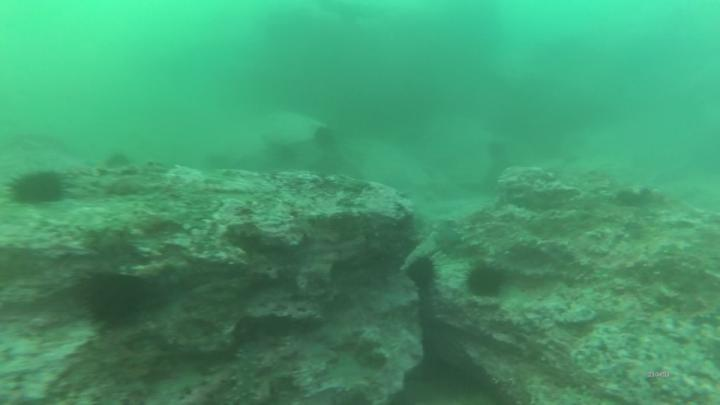echinus: (84, 273, 145, 325), (11, 174, 62, 205), (469, 267, 503, 298), (408, 260, 436, 287)
holothurian: (233, 345, 261, 403)
